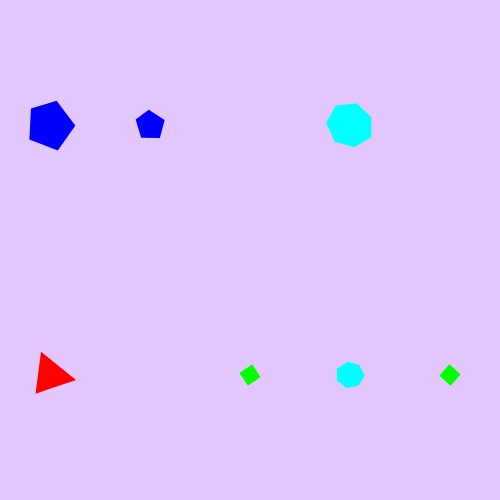heptagon: (323, 100, 377, 151), (332, 358, 368, 392)
pentagon: (23, 98, 78, 153), (132, 107, 169, 144)
quadrilateral: (235, 360, 265, 390), (435, 360, 465, 390)
triangle: (28, 351, 73, 399)
